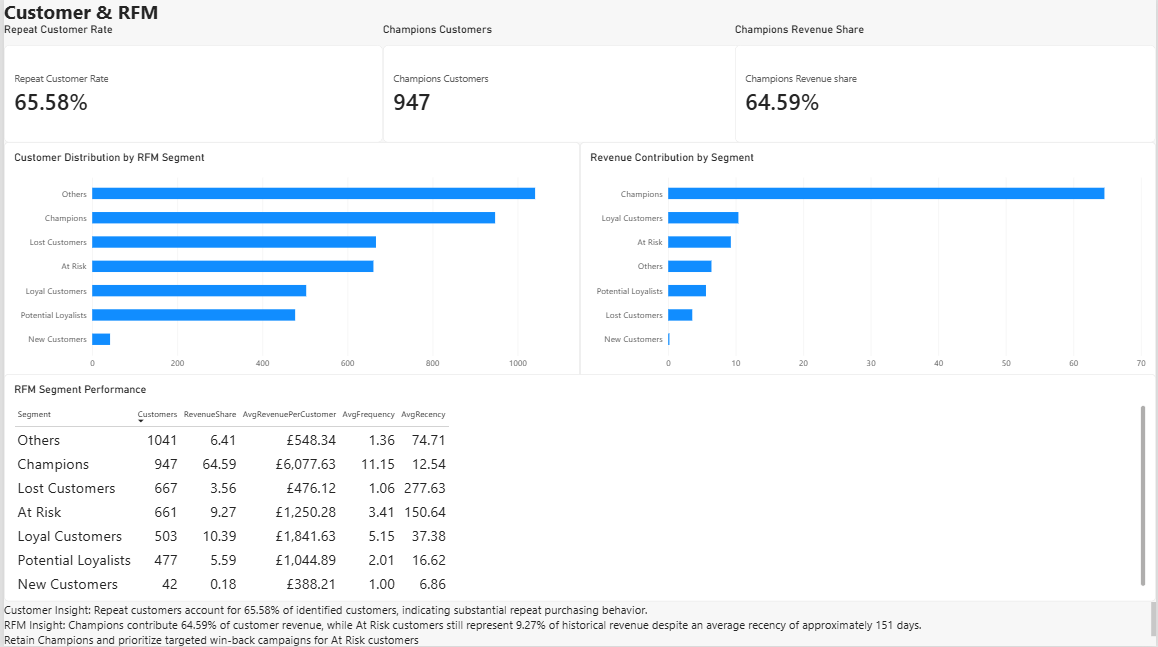

Layout of this report page (visuals, bound fields, positions):
{"tool":"powerbi","page":{"name":"Customer & RFM","canvas":[1920,1080],"ordinal":2},"visuals":[{"type":"cardVisual","title":"Repeat Customer Rate","fields":{"Data":["clean_sales.Repeat Customer Rate"]},"box":[0,40.9,631.7,199.9],"z":0},{"type":"cardVisual","title":"Champions Customers","fields":{"Data":["clean_sales.Champions Customers"]},"box":[631.7,40.9,596.7,199.9],"z":1},{"type":"cardVisual","title":"Champions Revenue Share","fields":{"Data":["clean_sales.Champions Revenue share"]},"box":[1218.2,40.9,701.8,199.9],"z":2},{"type":"clusteredBarChart","title":"Customer Distribution by RFM Segment","fields":{"Category":["rfm_summary.Segment"],"Y":["Sum(rfm_summary.Customers)"]},"box":[0,240.7,960,399.8],"z":3},{"type":"clusteredBarChart","title":"Revenue Contribution by Segment","fields":{"Category":["rfm_summary.Segment"],"Y":["Sum(rfm_summary.RevenueShare)"]},"box":[960,240.7,960,399.8],"z":4},{"type":"tableEx","title":"RFM Segment Performance","fields":{"Values":["rfm_summary.Segment","rfm_summary.Customers","rfm_summary.RevenueShare","rfm_summary.AvgRevenuePerCustomer","rfm_summary.AvgFrequency","rfm_summary.AvgRecency"]},"box":[0,627.4,1920,379.3],"z":5},{"type":"textbox","box":[0,1006.7,1920,72.9],"z":6},{"type":"textbox","box":[0,0,299.1,307.8],"z":7}]}

Visuals, with their boxes in screenshot pixels (x1, y1, x2, y2), scaled from the page's 1920x1080 canvas onto the 1158x647 screenshot:
"Repeat Customer Rate" cardVisual: (0, 25, 381, 144)
"Champions Customers" cardVisual: (381, 25, 741, 144)
"Champions Revenue Share" cardVisual: (735, 25, 1157, 144)
"Customer Distribution by RFM Segment" clusteredBarChart: (0, 144, 579, 384)
"Revenue Contribution by Segment" clusteredBarChart: (579, 144, 1157, 384)
"RFM Segment Performance" tableEx: (0, 376, 1157, 603)
textbox: (0, 603, 1157, 646)
textbox: (0, 0, 180, 184)
